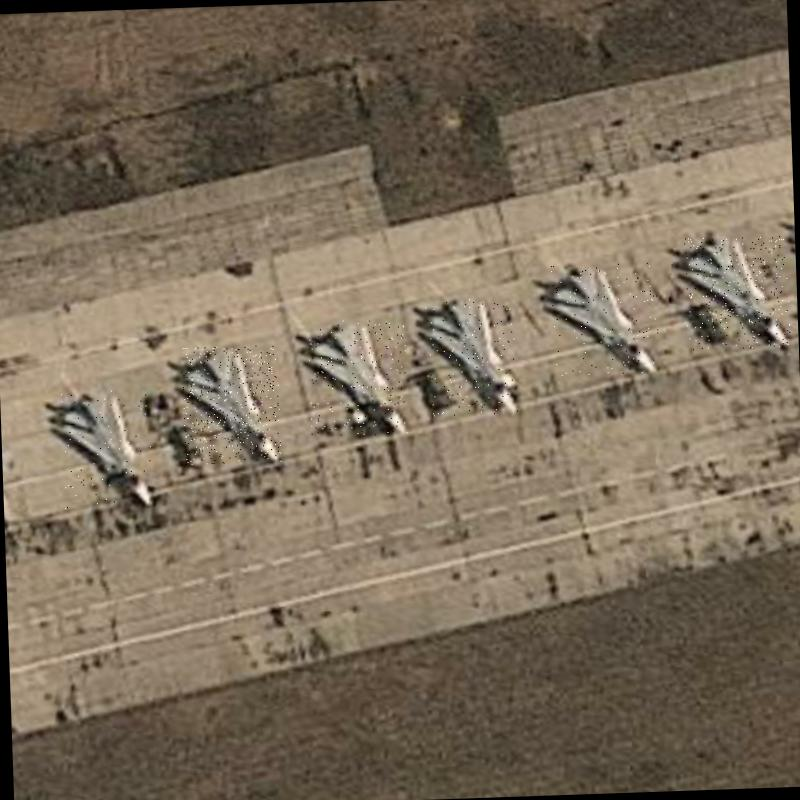A20: (550, 262, 660, 377), (684, 234, 790, 350), (307, 318, 408, 437), (181, 344, 281, 464), (56, 388, 152, 510), (424, 297, 518, 416)
